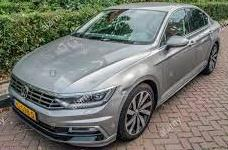Cars: (10, 4, 221, 148)
